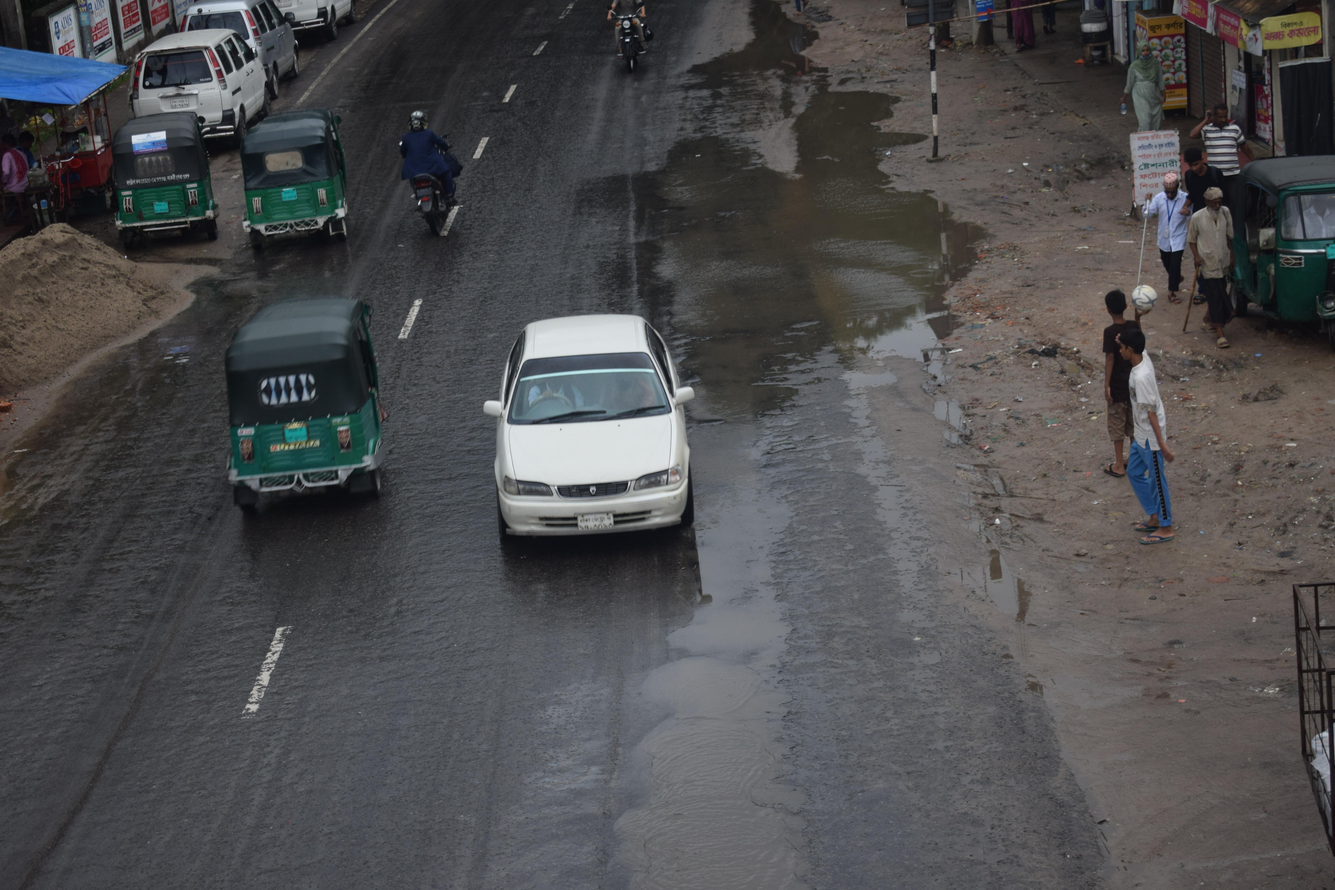Bike: (370, 82, 485, 249), (577, 0, 680, 104)
Car: (438, 285, 780, 603)
